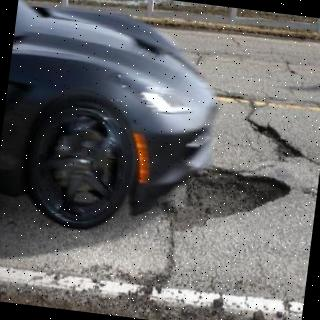pothole: (161, 163, 293, 233), (247, 119, 306, 161)
